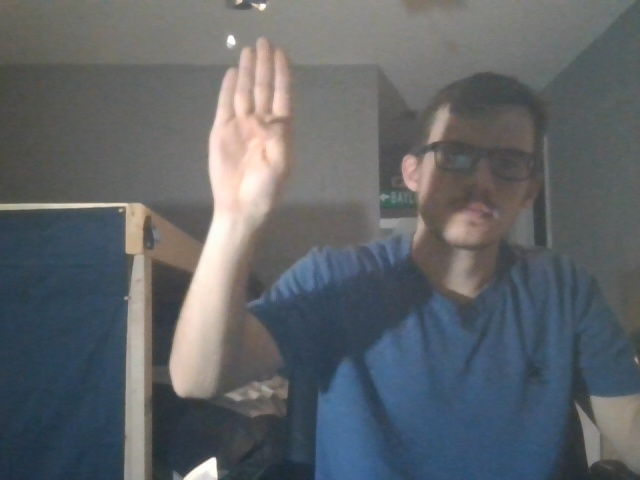B: (197, 35, 310, 225)
